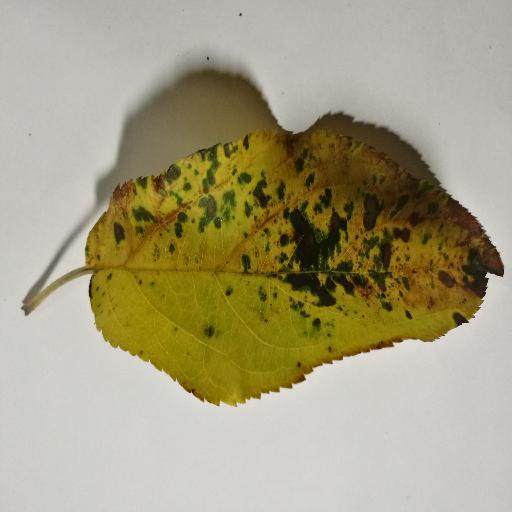Brown_Spot: (66, 119, 498, 311)
